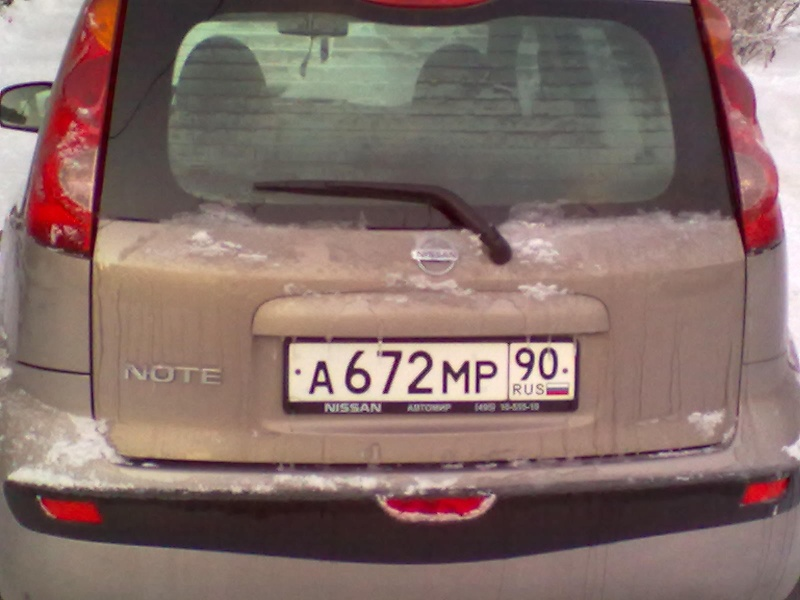car: (1, 1, 800, 600)
plate: (288, 343, 573, 400)
